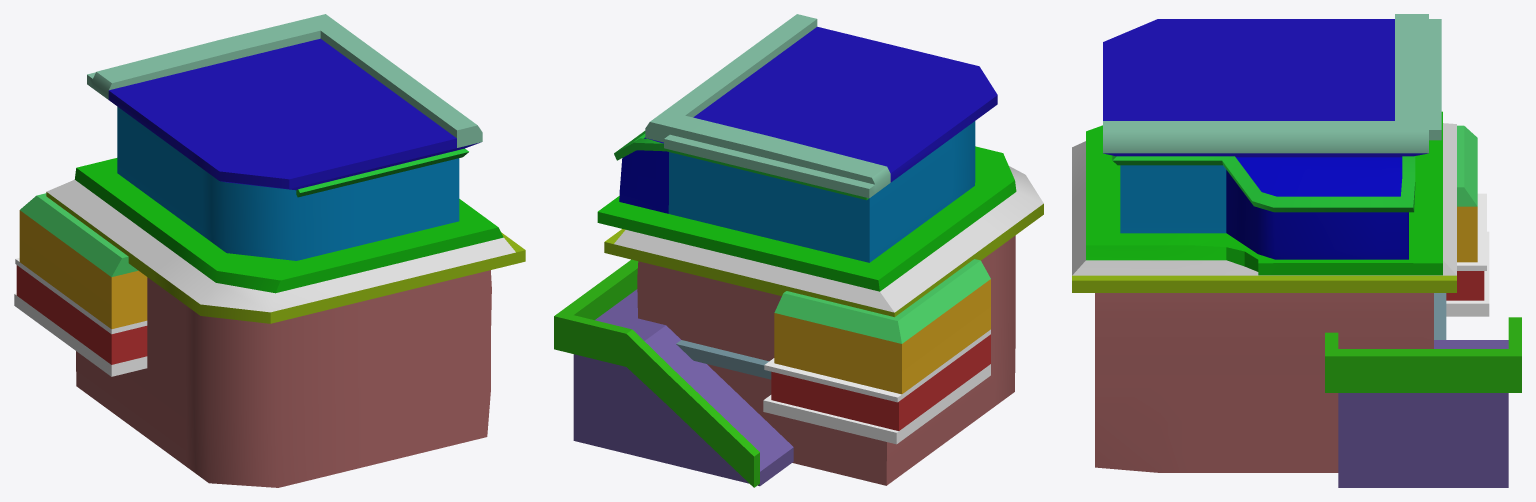
File: HouseProp_0203_low.fbx
3 views of the same model, side by side, from view 1: azimuth 30°, elevation 25°; view 2: azimuth 150°, elevation 25°; view 3: azimuth 270°, elevation 25° (orthographic). The views are drawn at different scales.
Visible parts, largest first — view 1: HouseProp02_low, HouseProp03_low; view 2: HouseProp02_low, HouseProp03_low; view 3: HouseProp02_low, HouseProp03_low.
Boxes of the visible parts, x1,y1,x2,y2 form: HouseProp02_low: [46, 14, 525, 487]; HouseProp03_low: [14, 193, 147, 376]; HouseProp02_low: [554, 14, 1043, 487]; HouseProp03_low: [763, 259, 990, 444]; HouseProp02_low: [1072, 14, 1521, 487]; HouseProp03_low: [1446, 125, 1489, 316].
Bounding box in the file's own units: 227 × 244 × 201.
